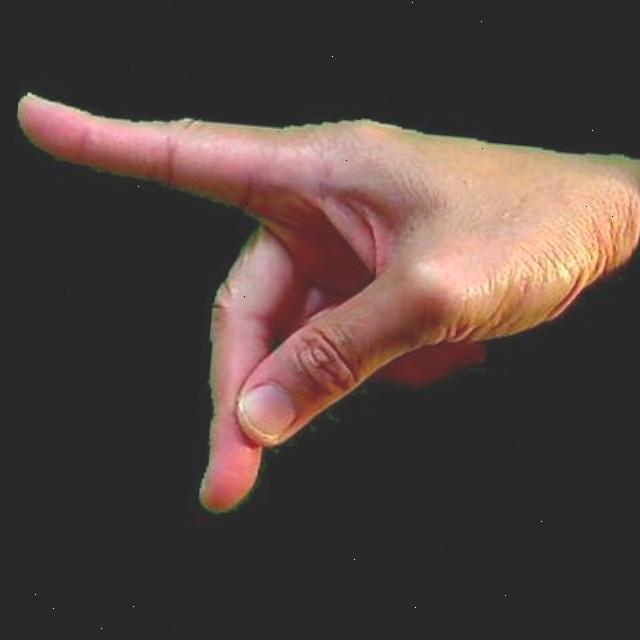p: (0, 72, 640, 563)
